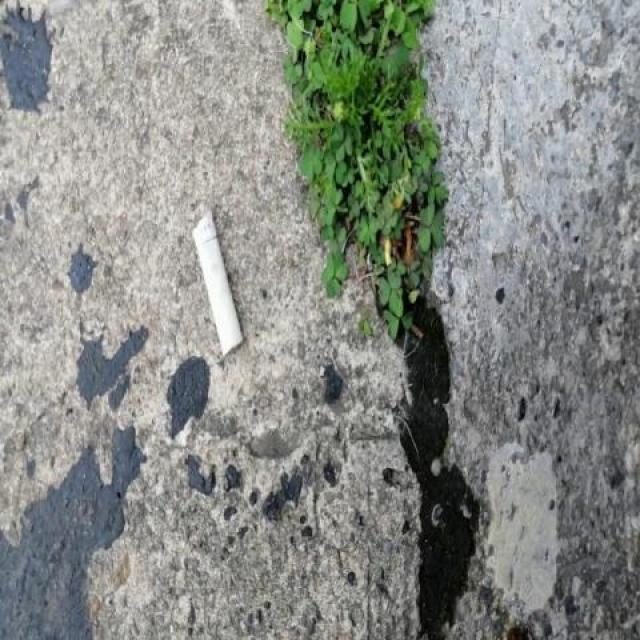non-organic waste: (186, 205, 251, 362)
